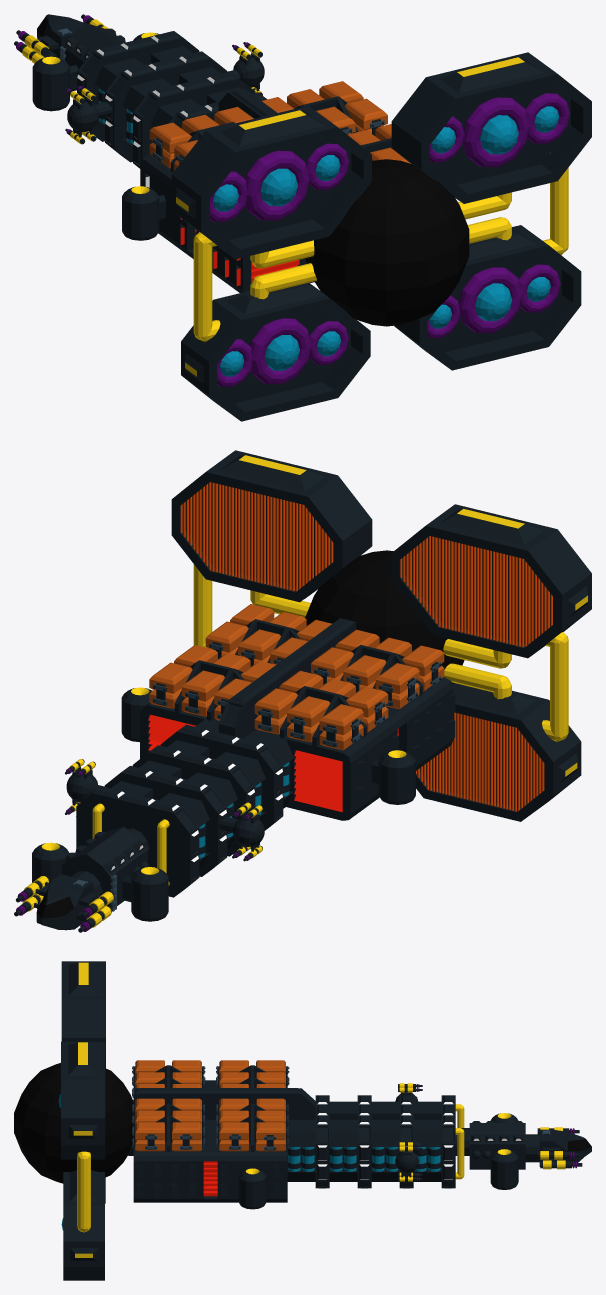
The picture shows the model from 3 angles, top to bottom: view 1: azimuth 30°, elevation 25°; view 2: azimuth 150°, elevation 25°; view 3: azimuth 270°, elevation 25°; orthographic projection. The views are drawn at different scales.
Visible parts, largest first — view 1: group122676374; view 2: group122676374; view 3: group122676374.
Boxes of the visible parts, x1=… form: group122676374: x1=14, y1=14, x2=591, y2=421; group122676374: x1=14, y1=450, x2=591, y2=932; group122676374: x1=14, y1=961, x2=591, y2=1280.
Size of the model in its own units: 2.18 by 1.51 by 3.65.
